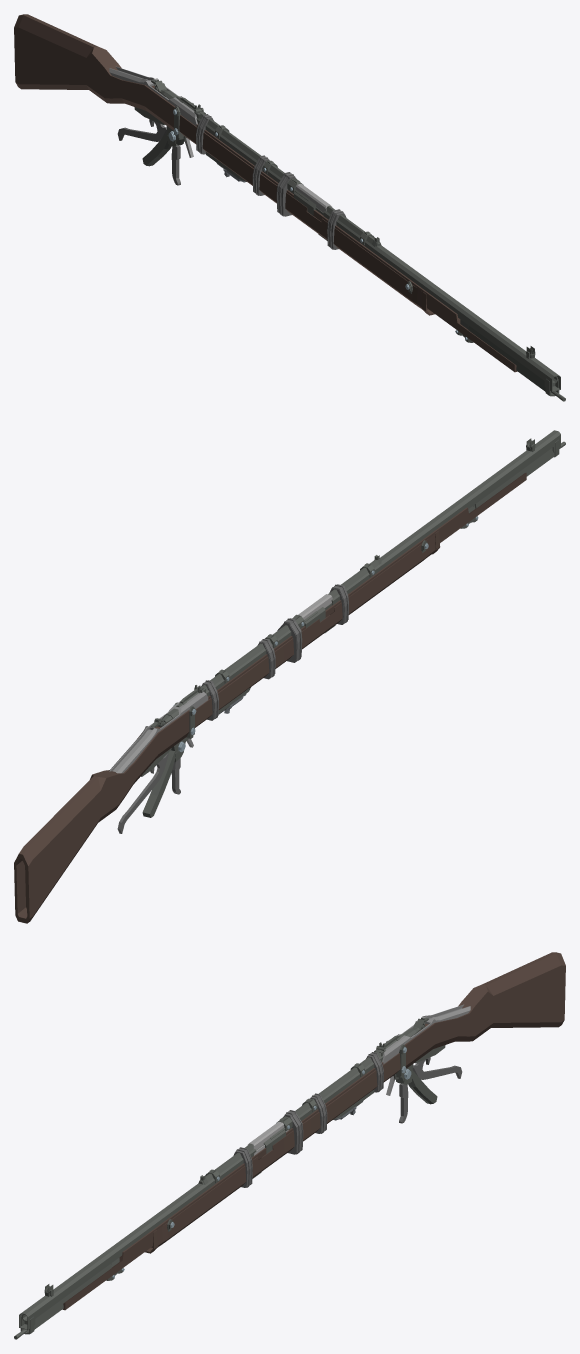
The model's file is Rifles.glb.
3 views of the same model, one above another, from view 1: azimuth 30°, elevation 25°; view 2: azimuth 150°, elevation 25°; view 3: azimuth 330°, elevation 25° (orthographic).
Visible parts, largest first — view 1: Cube.007_0; view 2: Cube.007_0; view 3: Cube.007_0.
Boxes of the visible parts, x1,y1,x2,y2 form: Cube.007_0: (14, 14, 565, 401); Cube.007_0: (14, 430, 565, 923); Cube.007_0: (14, 952, 565, 1339).
Size of the model in its own units: 0.2099 by 1.03 by 9.24.
